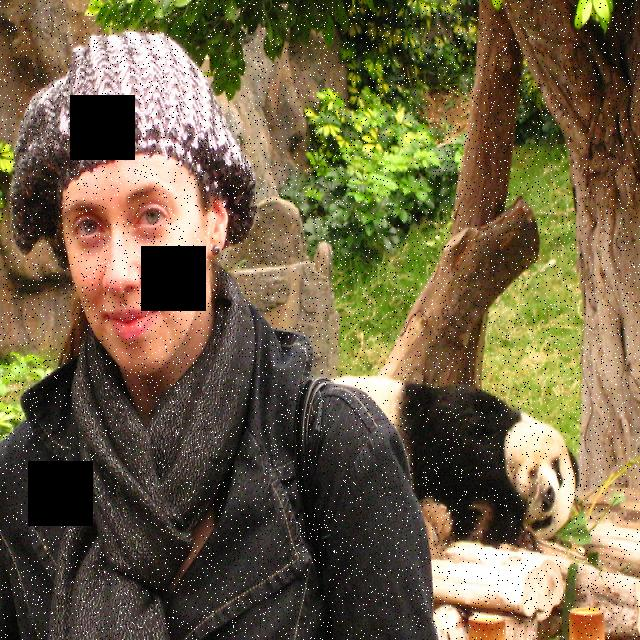Bear: (343, 347, 584, 552)
